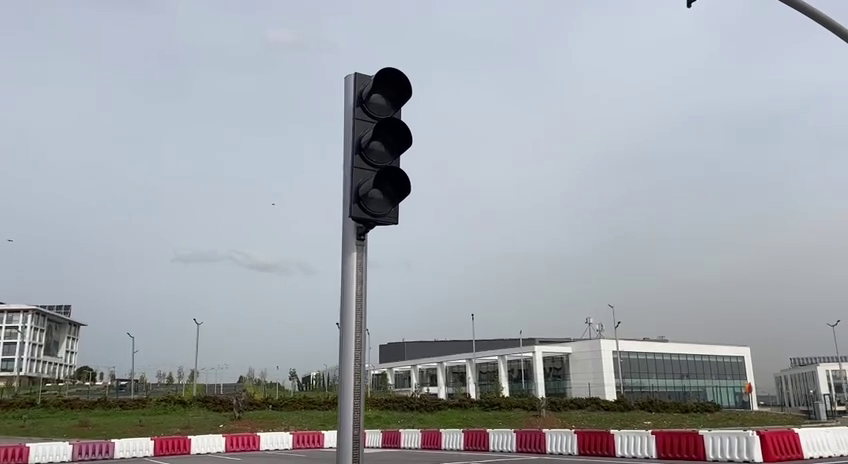trafficLight: (336, 63, 415, 233)
